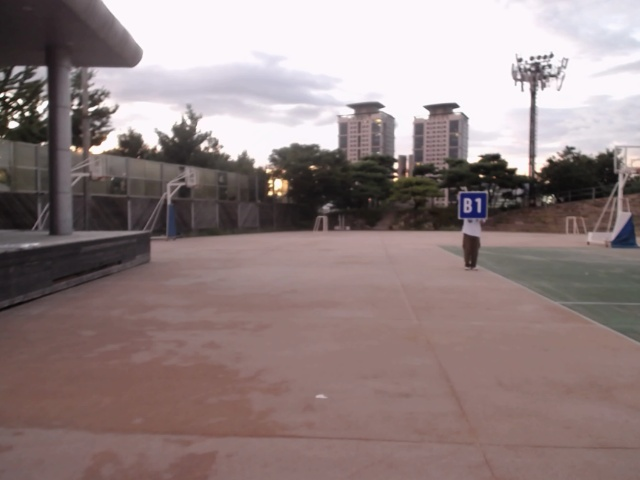delivery_b1: (459, 192, 487, 219)
